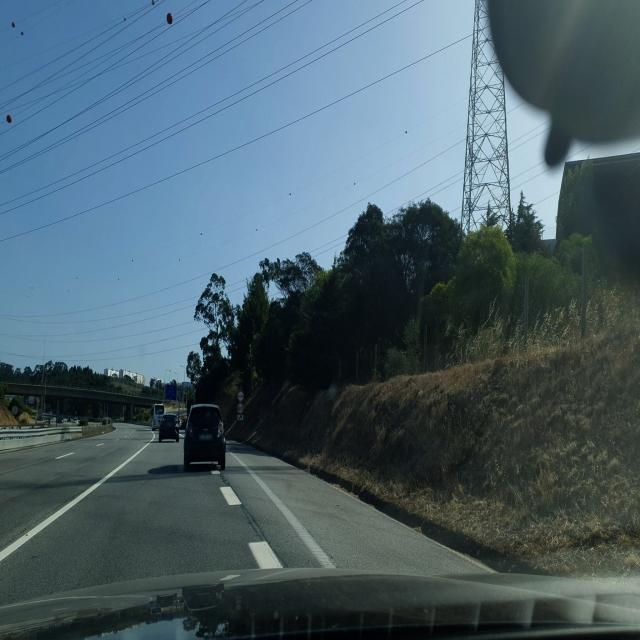car: (184, 402, 226, 471), (158, 413, 180, 443), (178, 411, 187, 430)
